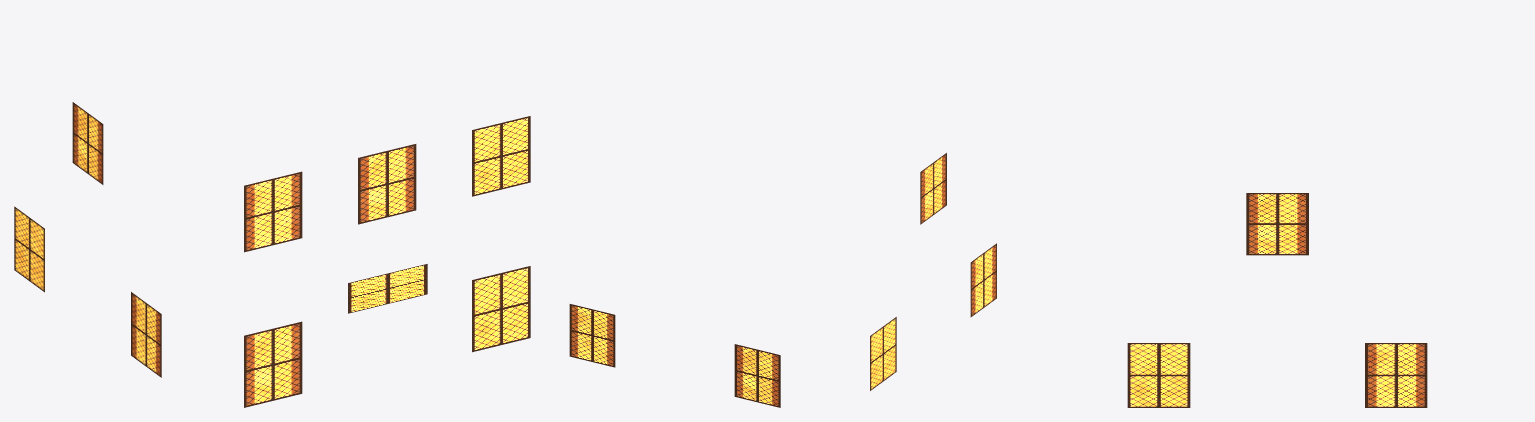
File: bv_house_c_lit.glb
3 renders of one model, left to right at view 1: azimuth 30°, elevation 25°; view 2: azimuth 150°, elevation 25°; view 3: azimuth 270°, elevation 25°, orthographic. The views are drawn at different scales.
Visible parts, largest first — view 1: lit2, lit1, lit3; view 2: lit3, lit1, lit2; view 3: lit2, lit3, lit1.
Boxes of the visible parts, box(x1,y1,x2,y2) form: lit2: box(14, 116, 530, 352); lit1: box(72, 102, 416, 407); lit3: box(131, 171, 302, 377); lit3: box(569, 243, 996, 367); lit1: box(734, 153, 946, 407); lit2: box(870, 317, 896, 390); lit2: box(1127, 343, 1190, 407); lit3: box(1365, 343, 1427, 407); lit1: box(1246, 193, 1308, 255).
Size of the model in its own units: 6.78 by 4 by 7.8.
Materials: 3 (3 with a texture image).
